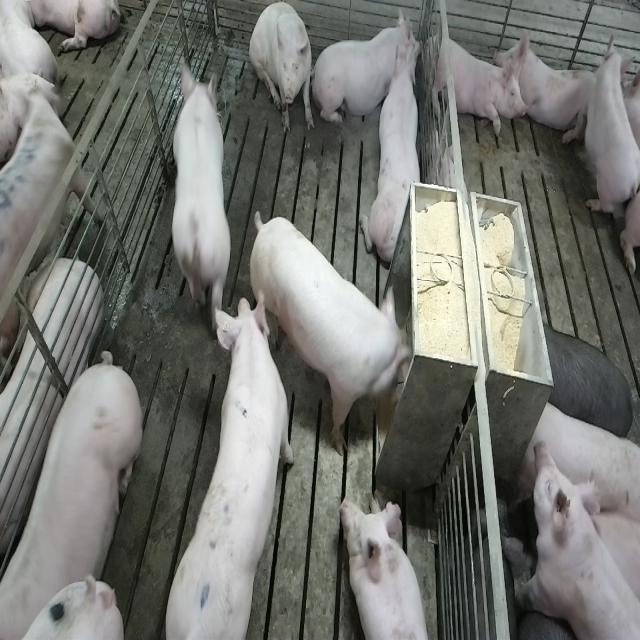Feeding: (253, 205, 418, 445)
Lateral_lying: (0, 257, 102, 585)
Sitting: (250, 4, 314, 138)
Standing: (158, 286, 298, 634), (0, 97, 96, 370), (512, 449, 637, 640), (163, 64, 231, 334), (523, 398, 639, 542), (542, 318, 638, 441)
Sternal_lying: (369, 28, 428, 270), (340, 491, 433, 640), (569, 33, 638, 222), (315, 9, 421, 130), (422, 20, 522, 144), (501, 25, 591, 141)
